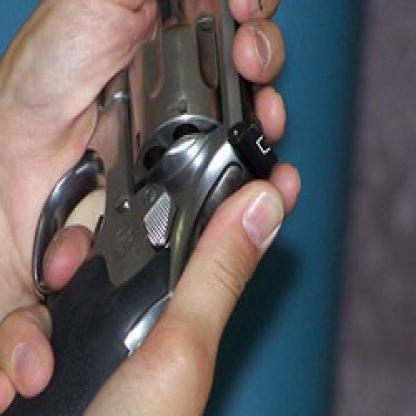gun: (0, 0, 276, 414)
